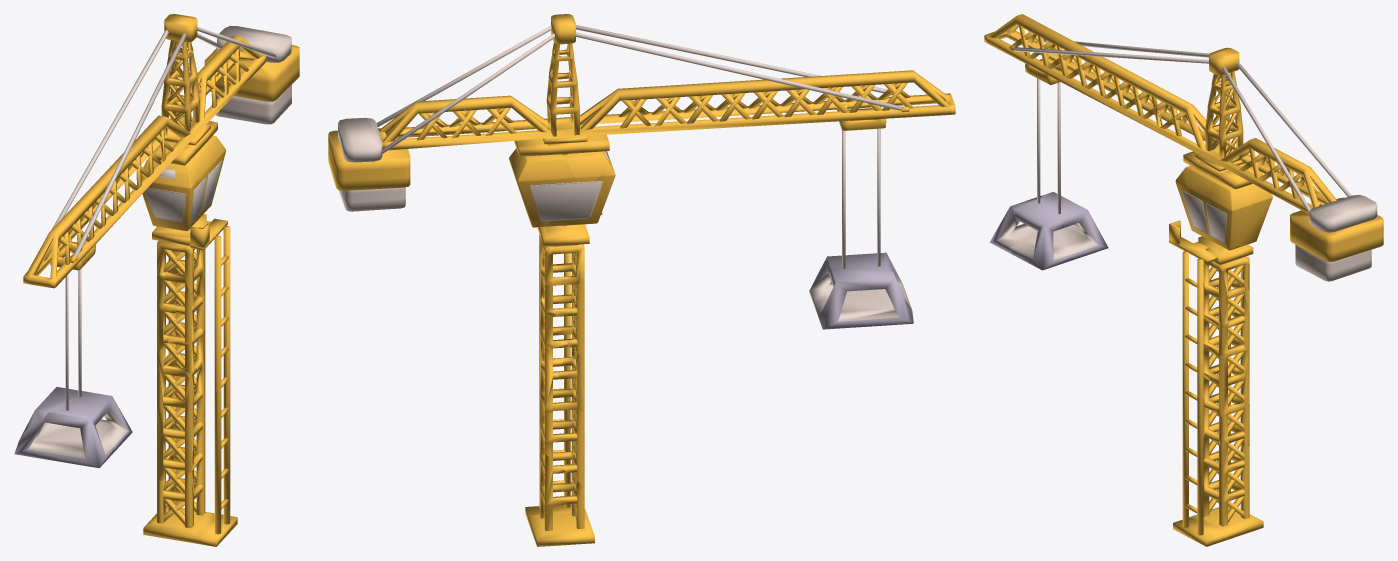
Rendered from crane.fbx.
The picture shows the model from 3 angles, left to right: view 1: azimuth 30°, elevation 25°; view 2: azimuth 150°, elevation 25°; view 3: azimuth 270°, elevation 25°; orthographic projection. The views are drawn at different scales.
Visible parts, largest first — view 1: Construction crane.004, Construction crane.050_cell.001, Construction crane.012_cell.003, Construction crane.003, Construction crane.050_cell.002, Construction crane.012_cell.005, Construction crane.001, Construction crane.005, Construction crane.012_cell.002, Construction crane.049, Construction crane.050_cell, Construction crane.012_cell (+22 smaller); view 2: Construction crane.004, Construction crane.050_cell, Construction crane.003, Construction crane.097, Construction crane.012_cell.003, Construction crane.003_cell.001, Construction crane.001, Construction crane.012_cell.005, Construction crane.049, Construction crane.050_cell.002, Construction crane.012_cell.002, Construction crane.005 (+11 smaller); view 3: Construction crane.004, Construction crane.003, Construction crane.050_cell.002, Construction crane.012_cell.003, Construction crane.050_cell, Construction crane.049, Construction crane.001, Construction crane.003_cell.004, Construction crane.005, Construction crane.012_cell, Construction crane.012_cell.006, Construction crane.012_cell.005 (+15 smaller).
Part boxes in pixels (x1=…): Construction crane.004: x1=23, y1=35, x2=266, y2=288; Construction crane.050_cell.001: x1=14, y1=411, x2=113, y2=468; Construction crane.012_cell.003: x1=157, y1=422, x2=205, y2=528; Construction crane.003: x1=204, y1=45, x2=299, y2=101; Construction crane.050_cell.002: x1=60, y1=392, x2=132, y2=451; Construction crane.012_cell.005: x1=157, y1=394, x2=205, y2=481; Construction crane.001: x1=143, y1=505, x2=237, y2=546; Construction crane.005: x1=216, y1=85, x2=291, y2=124; Construction crane.012_cell.002: x1=157, y1=347, x2=201, y2=410; Construction crane.049: x1=217, y1=26, x2=291, y2=62; Construction crane.050_cell: x1=17, y1=387, x2=87, y2=445; Construction crane.012_cell: x1=166, y1=289, x2=205, y2=345; Construction crane.004: x1=378, y1=42, x2=955, y2=156; Construction crane.050_cell: x1=814, y1=267, x2=905, y2=329; Construction crane.003: x1=328, y1=128, x2=410, y2=190; Construction crane.097: x1=529, y1=181, x2=603, y2=221; Construction crane.012_cell.003: x1=540, y1=424, x2=584, y2=531; Construction crane.003_cell.001: x1=513, y1=154, x2=575, y2=227; Construction crane.001: x1=525, y1=504, x2=594, y2=546; Construction crane.012_cell.005: x1=540, y1=397, x2=584, y2=487; Construction crane.049: x1=338, y1=117, x2=382, y2=162; Construction crane.050_cell.002: x1=809, y1=253, x2=884, y2=306; Construction crane.012_cell.002: x1=544, y1=351, x2=584, y2=413; Construction crane.005: x1=338, y1=187, x2=405, y2=211; Construction crane.004: x1=984, y1=14, x2=1336, y2=214; Construction crane.003: x1=1290, y1=197, x2=1383, y2=261; Construction crane.050_cell.002: x1=1010, y1=200, x2=1072, y2=270; Construction crane.012_cell.003: x1=1203, y1=441, x2=1249, y2=526; Construction crane.050_cell: x1=1040, y1=191, x2=1108, y2=260; Construction crane.049: x1=1309, y1=195, x2=1377, y2=232; Construction crane.001: x1=1173, y1=507, x2=1263, y2=546; Construction crane.003_cell.004: x1=1207, y1=180, x2=1251, y2=249; Construction crane.005: x1=1295, y1=244, x2=1371, y2=281; Construction crane.012_cell: x1=1203, y1=301, x2=1249, y2=356; Construction crane.012_cell.006: x1=1209, y1=349, x2=1249, y2=419; Construction crane.012_cell.005: x1=1203, y1=403, x2=1249, y2=463.
Size of the model in its own units: 11.27 by 13.56 by 14.67.
